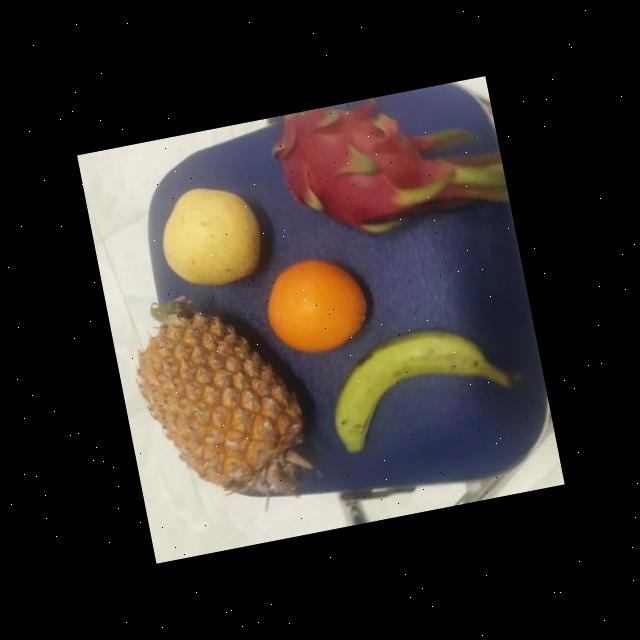banana: (321, 317, 504, 451)
orange: (258, 246, 376, 360)
pear: (146, 174, 268, 296)
pineapple: (128, 281, 322, 506)
pitaya: (267, 85, 467, 253)
